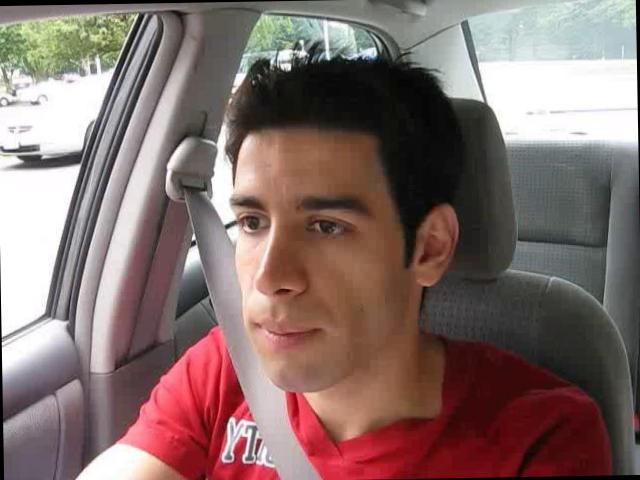eye_open: (302, 210, 363, 244), (230, 206, 272, 239)
face: (202, 162, 390, 396)
